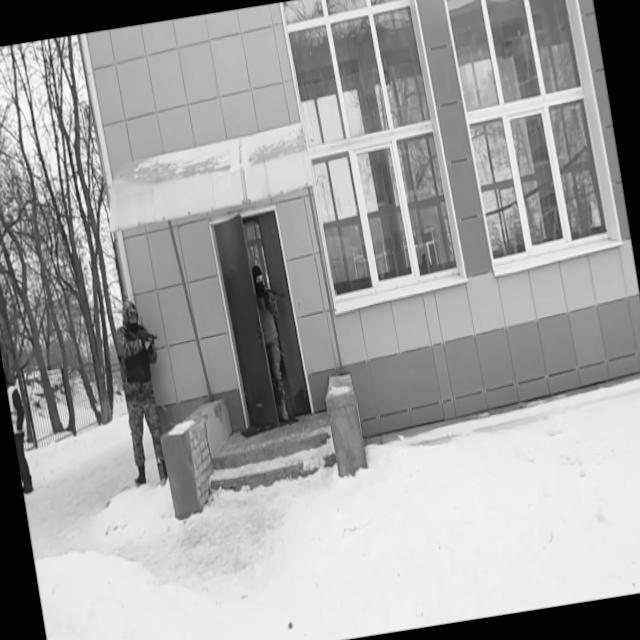gun: (126, 321, 160, 355), (262, 281, 288, 305)
person: (4, 368, 38, 493)
person with a gun: (107, 294, 182, 488), (250, 260, 307, 426)
